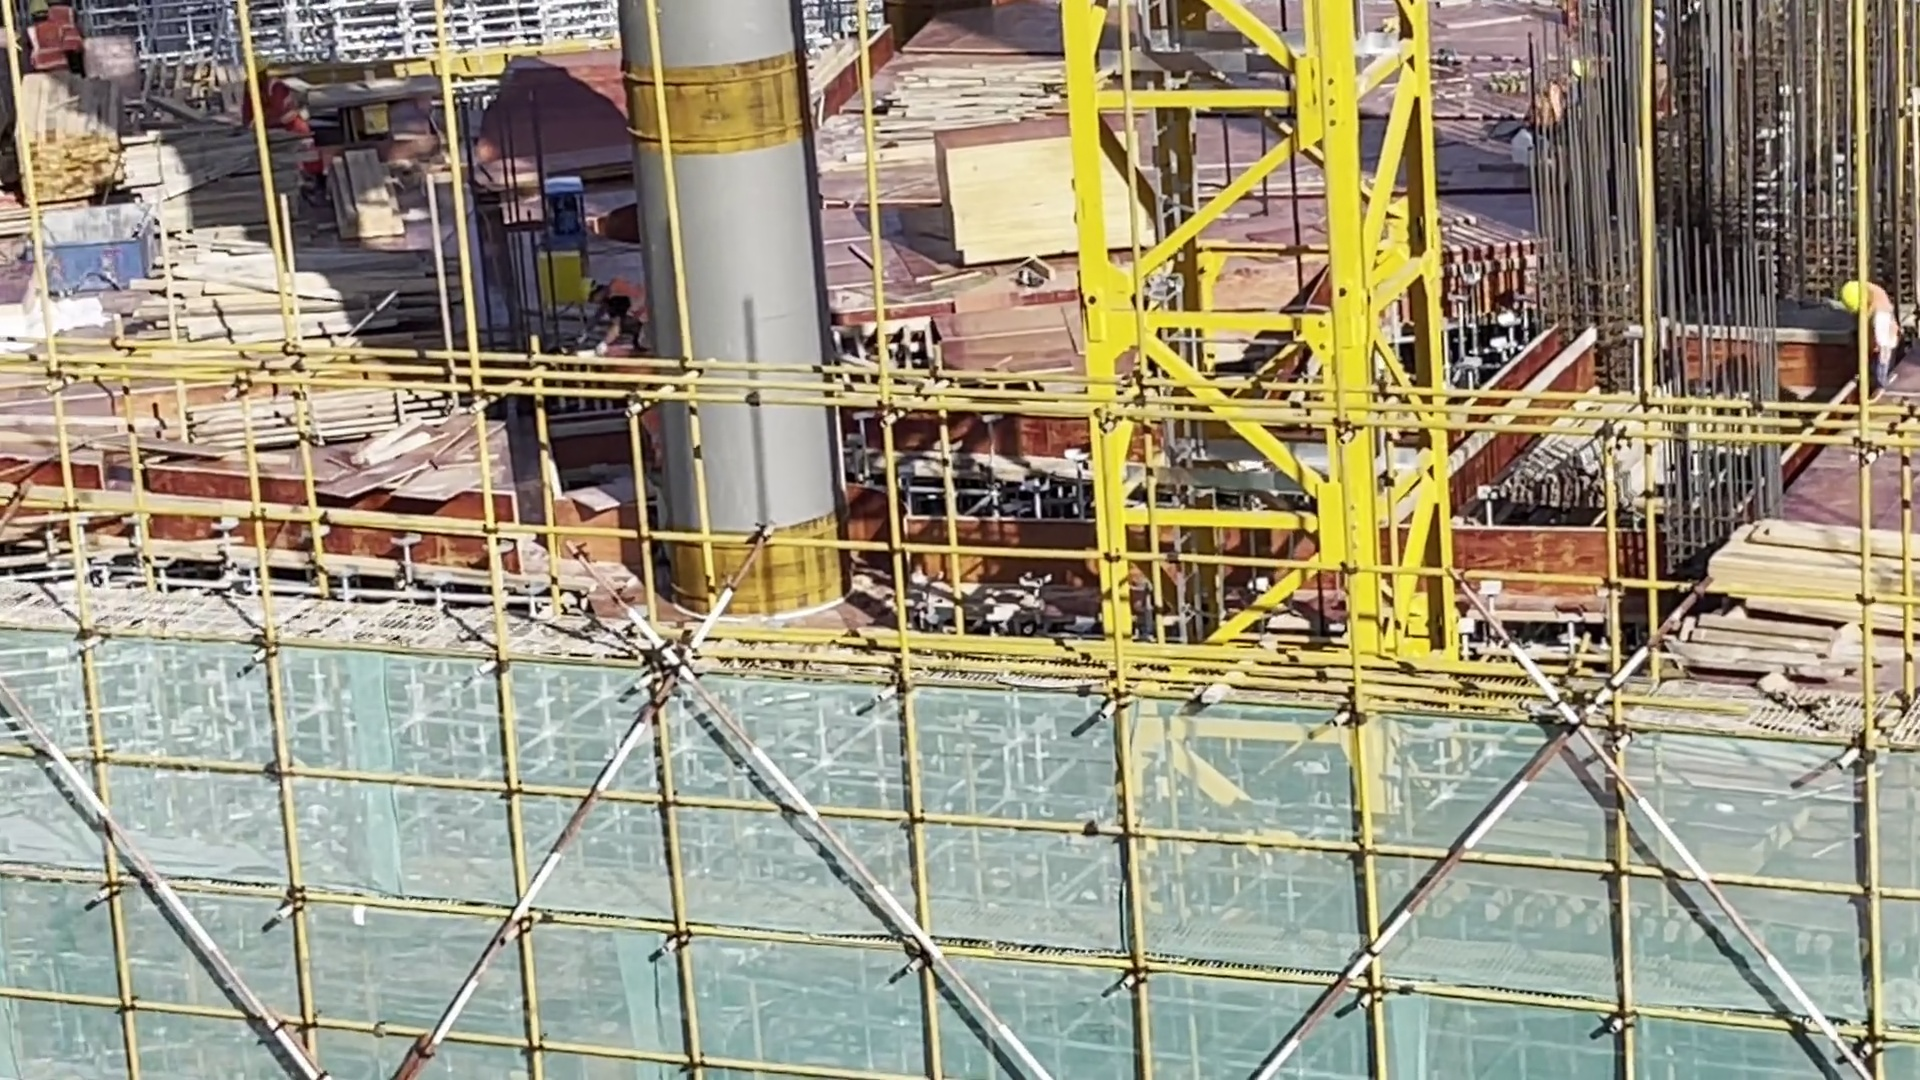board: (1667, 507, 1917, 702)
helmet: (1828, 272, 1875, 317), (574, 267, 597, 309)
hopper: (22, 197, 175, 315)
person: (1837, 275, 1909, 398), (583, 276, 659, 358)
